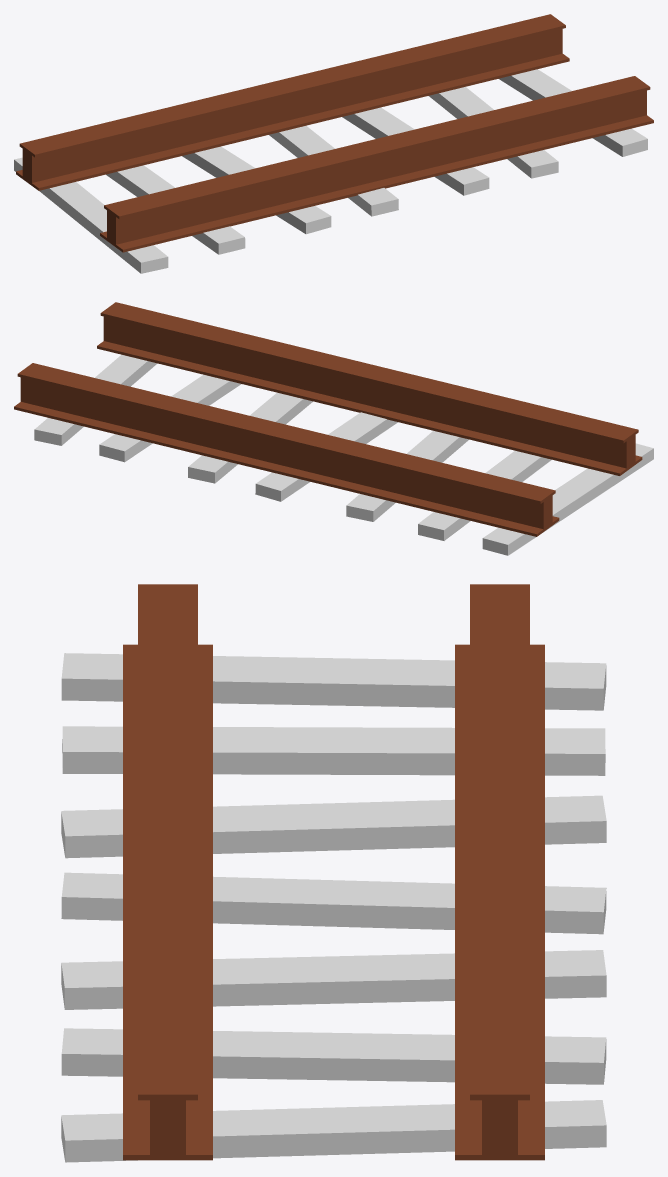
The model's file is RailwayC.fbx.
3 views of the same model, one above another, from view 1: azimuth 30°, elevation 25°; view 2: azimuth 150°, elevation 25°; view 3: azimuth 270°, elevation 25° (orthographic). The views are drawn at different scales.
Parts seen in each view (by area): view 1: Rail; view 2: Rail; view 3: Rail.
Part boxes in pixels (bbox=[...]): Rail: bbox=[14, 14, 653, 273]; Rail: bbox=[14, 302, 653, 555]; Rail: bbox=[61, 584, 606, 1162].
Size of the model in its own units: 4000 by 331 by 1807.
